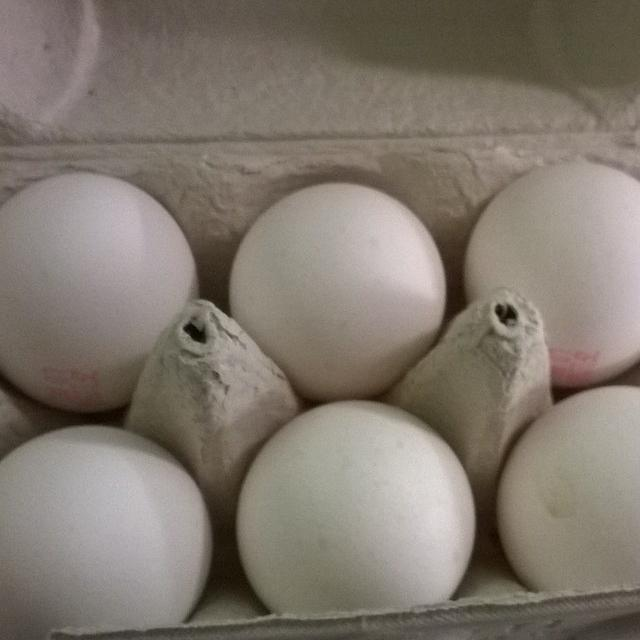egg: (234, 398, 477, 616), (0, 169, 200, 412), (227, 180, 447, 400), (0, 422, 213, 640), (462, 159, 640, 387), (495, 383, 640, 608)
